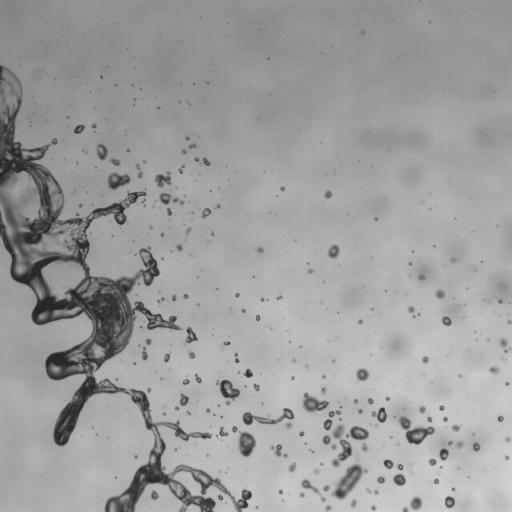droplet: (322, 424, 369, 467), (398, 416, 434, 444), (232, 426, 256, 457), (216, 379, 240, 405), (302, 392, 328, 412), (107, 172, 130, 189), (393, 464, 406, 486), (154, 171, 171, 187), (371, 407, 386, 422), (184, 327, 197, 344), (410, 496, 422, 511), (96, 144, 107, 160), (356, 368, 369, 381), (328, 244, 339, 258), (216, 426, 228, 438), (439, 448, 448, 460), (445, 496, 454, 508), (383, 459, 393, 469), (73, 124, 84, 133), (180, 394, 188, 406), (442, 316, 451, 326), (109, 158, 120, 166), (202, 208, 210, 218), (489, 366, 499, 374), (435, 290, 444, 298), (244, 368, 252, 377), (472, 442, 480, 451), (288, 463, 296, 472), (151, 490, 158, 499), (324, 190, 331, 198), (182, 377, 189, 385), (452, 424, 460, 431), (456, 440, 463, 448), (429, 457, 436, 465), (377, 476, 385, 483), (164, 353, 170, 362), (195, 374, 201, 383), (188, 351, 195, 358), (185, 227, 191, 235), (350, 499, 356, 507), (176, 244, 182, 251), (418, 274, 425, 280), (408, 306, 414, 313), (422, 356, 428, 363), (419, 406, 425, 413), (167, 207, 172, 215), (157, 297, 163, 303), (253, 384, 259, 390), (505, 436, 511, 442), (323, 485, 329, 491), (325, 505, 331, 511), (321, 387, 326, 394), (257, 247, 263, 252), (145, 339, 151, 344), (497, 416, 503, 421), (314, 468, 319, 474), (433, 478, 438, 484), (299, 492, 305, 497), (371, 505, 376, 511), (189, 144, 196, 148), (223, 341, 230, 345), (402, 507, 409, 511), (368, 398, 373, 403), (439, 405, 444, 410), (299, 431, 304, 436), (331, 444, 336, 449), (92, 123, 96, 128), (280, 186, 284, 191), (215, 204, 220, 208), (450, 258, 455, 262), (172, 295, 176, 300), (183, 294, 188, 298), (277, 295, 282, 299), (358, 319, 362, 324), (358, 409, 362, 414), (427, 417, 432, 421), (505, 455, 509, 460), (367, 488, 371, 493), (218, 495, 222, 500), (185, 136, 189, 140), (308, 269, 312, 273), (498, 299, 502, 303), (241, 308, 245, 312), (507, 320, 511, 324), (206, 408, 210, 412), (443, 417, 447, 421), (374, 490, 378, 494), (256, 315, 259, 320), (182, 150, 186, 153), (235, 293, 239, 296), (292, 359, 296, 362), (385, 397, 389, 400), (175, 406, 178, 410), (451, 487, 455, 490), (279, 489, 282, 493), (374, 217, 377, 220), (261, 298, 264, 301), (505, 382, 508, 385), (354, 399, 357, 402), (448, 441, 451, 444), (187, 411, 189, 415), (127, 149, 130, 151), (79, 204, 81, 207), (149, 226, 152, 228), (322, 375, 325, 377), (459, 374, 461, 377), (291, 377, 294, 379), (134, 455, 137, 457), (157, 106, 159, 108), (29, 123, 31, 125), (211, 232, 213, 234), (501, 357, 503, 359), (306, 365, 308, 367), (163, 412, 165, 414), (390, 436, 392, 438), (311, 450, 313, 452)
ligament: (0, 64, 247, 511), (331, 462, 367, 499), (242, 408, 294, 428), (301, 479, 325, 501), (323, 410, 340, 430), (159, 193, 184, 204), (270, 444, 287, 457), (499, 338, 511, 352), (194, 157, 210, 165), (136, 164, 142, 178), (141, 347, 147, 360), (178, 164, 184, 173), (234, 353, 239, 362)
